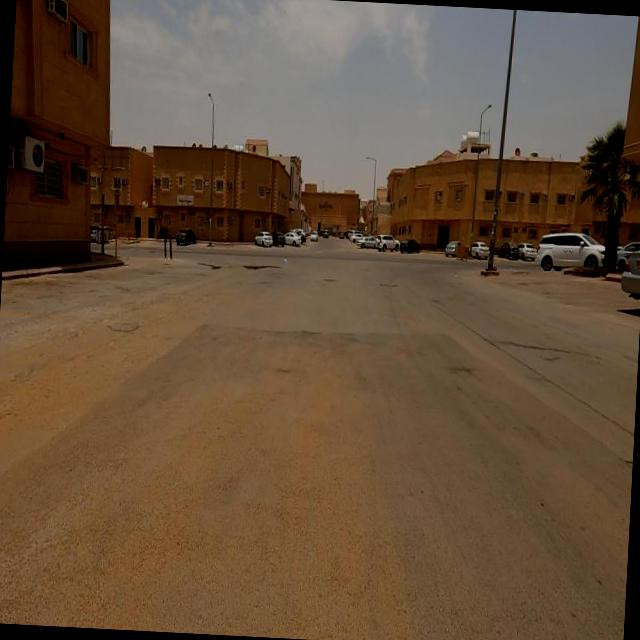debris: (272, 240, 300, 280)
